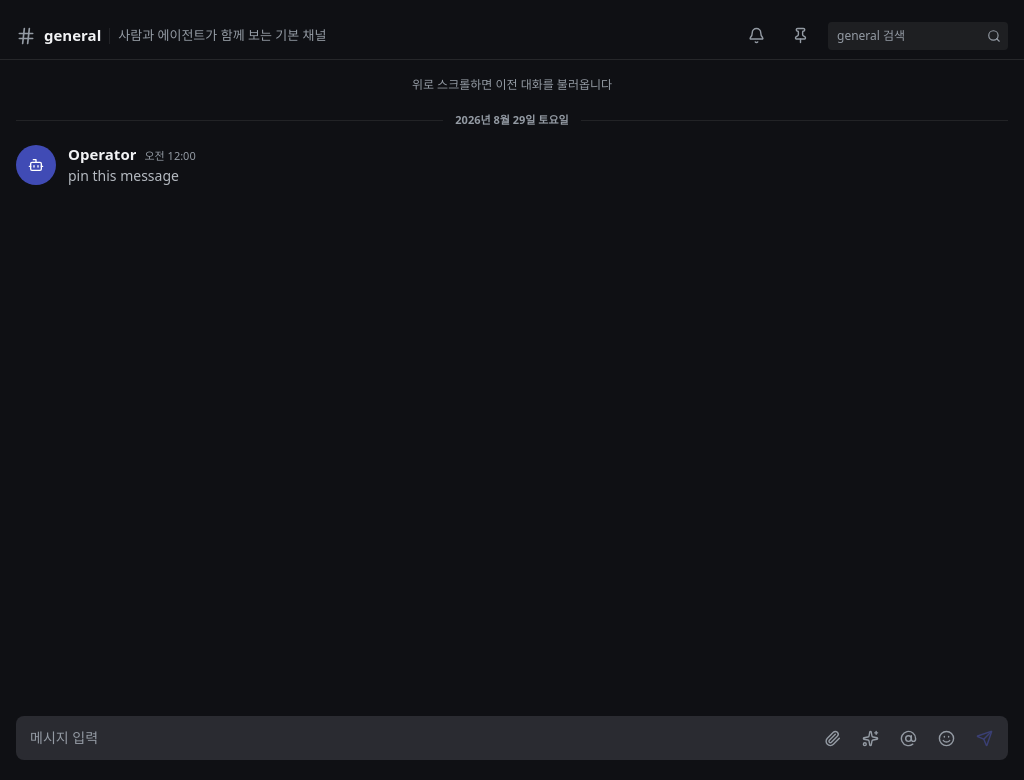
Test: message-pin view ownership › does not send pin navigation through an unavailable search-context route
Click the button named "고정 메시지" at {"x": 800, "y": 36}, box [778,14,822,58]
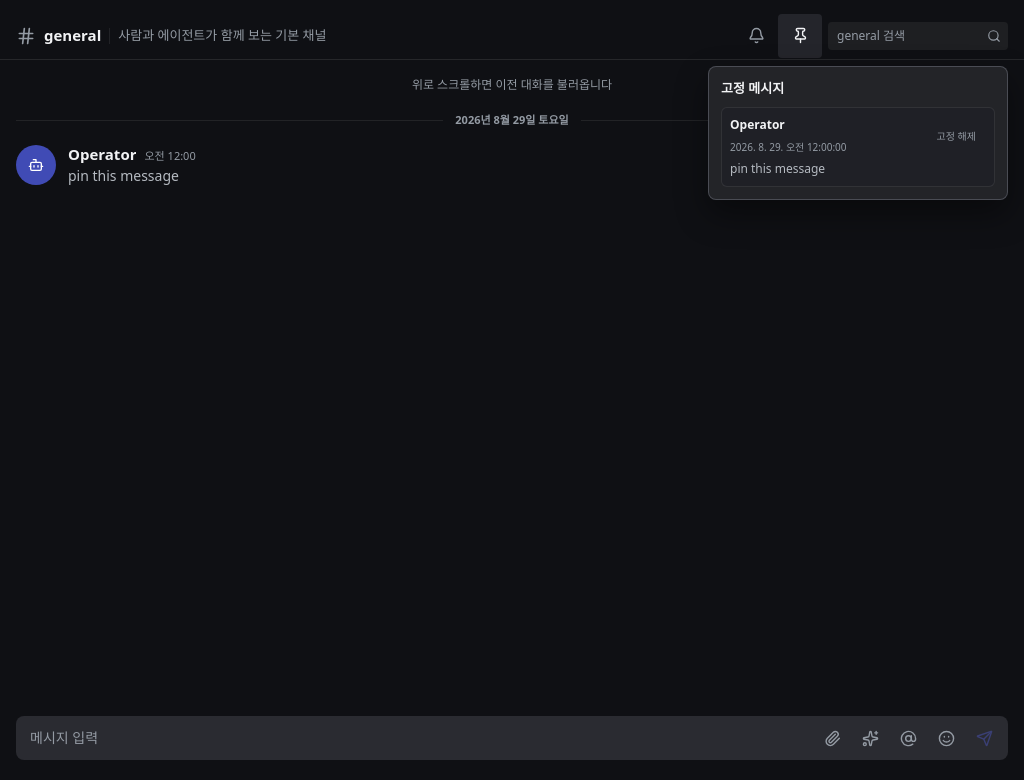
Click the button that starts with "Operator" at {"x": 757, "y": 124}, box [722,108,994,186]
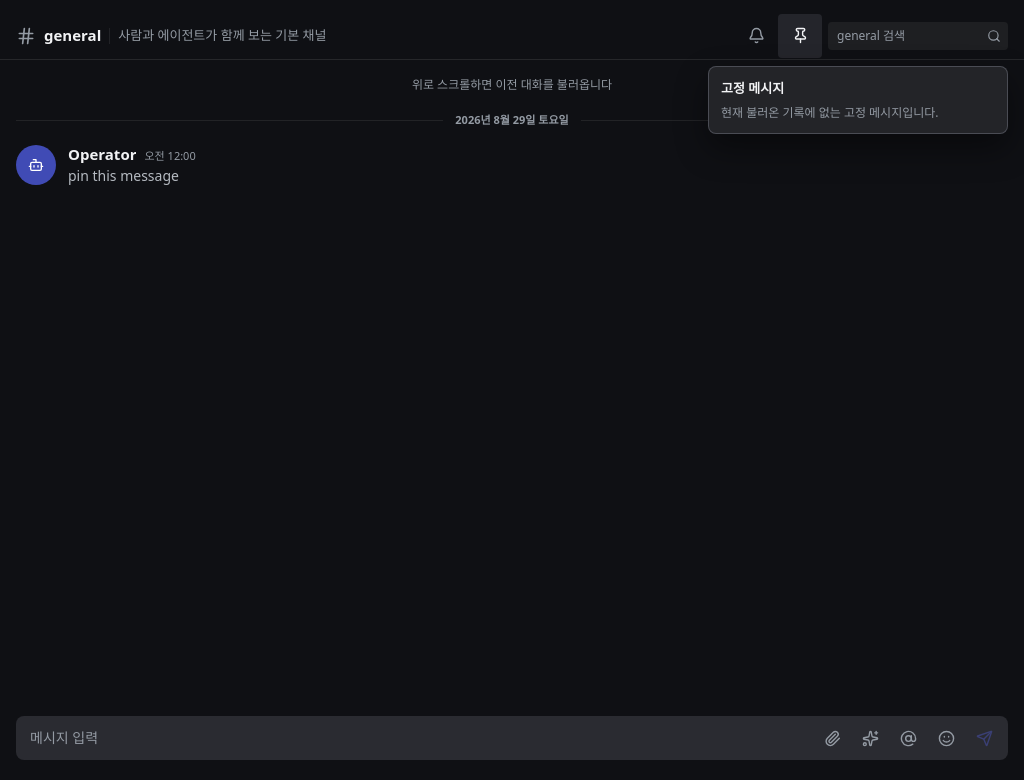
Check: the message reads "현재 불러온 기록에 없는 고정 메시지입니다.", box [721,104,938,121]
